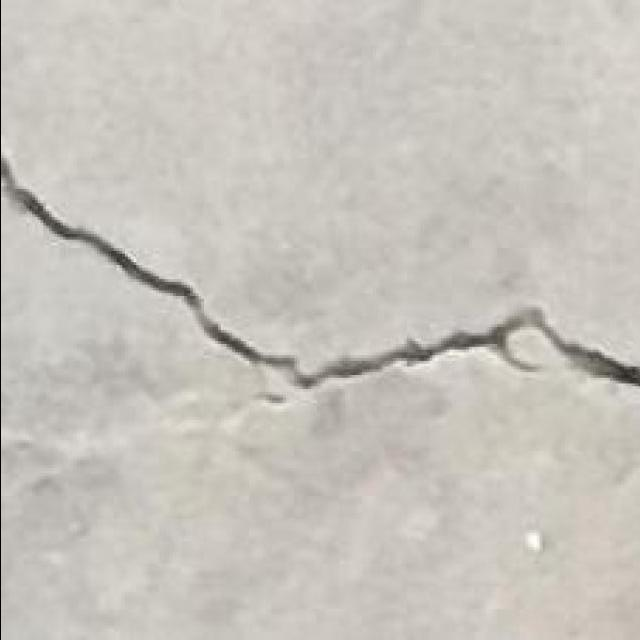Crack: (2, 154, 638, 397)
